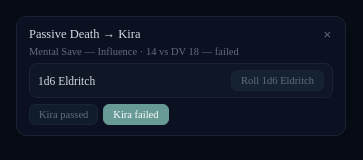
VttResolutionCard › says so when the dice could not be rolled, and keeps the roll button
Click the button "Roll 1d6 Eldritch" at (278, 80), box [231,70,324,91]
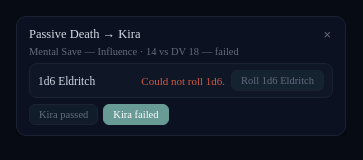
expect the text with class "equip-warn" reads "Could not roll 1d6.": met, box [141,74,225,86]
